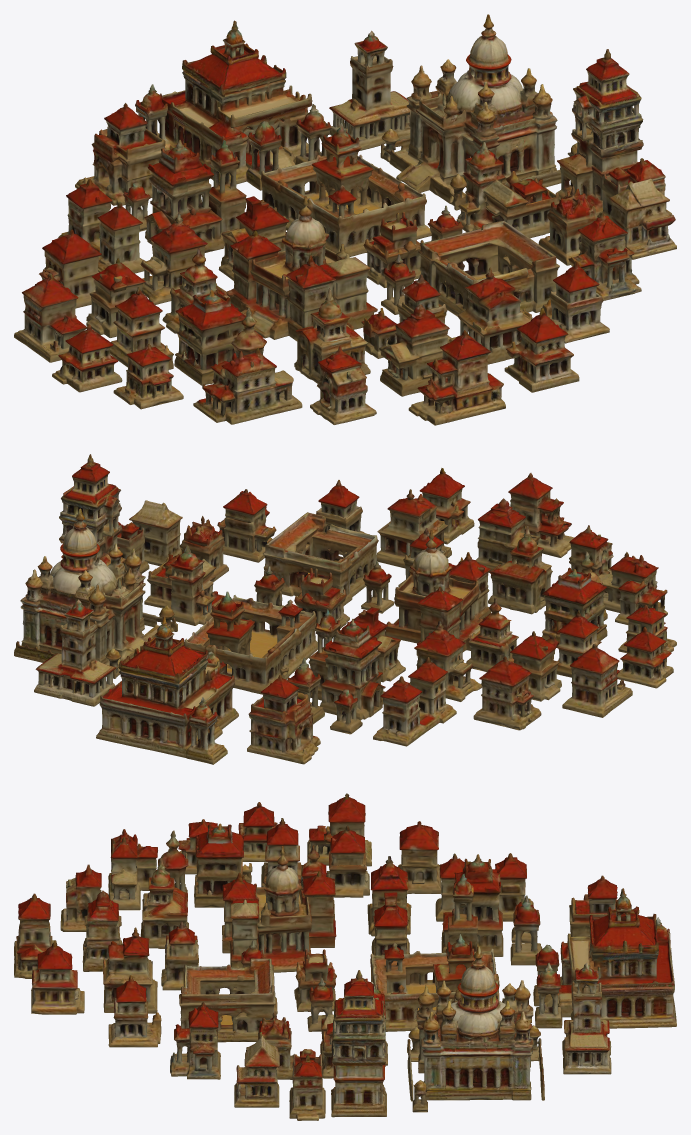
The model's file is Enlightenment City (South Asian).fbx.
3 renders of one model, top to bottom at view 1: azimuth 30°, elevation 25°; view 2: azimuth 150°, elevation 25°; view 3: azimuth 270°, elevation 25°, orthographic. The views are drawn at different scales.
Parts seen in each view (by area): view 1: tripo_node_e97e5fd7; view 2: tripo_node_e97e5fd7; view 3: tripo_node_e97e5fd7.
Boxes of the visible parts, bbox=[...] form: tripo_node_e97e5fd7: bbox=[14, 14, 676, 425]; tripo_node_e97e5fd7: bbox=[14, 454, 676, 764]; tripo_node_e97e5fd7: bbox=[14, 793, 676, 1120].
Size of the model in its own units: 1 by 0.2289 by 0.9991.
